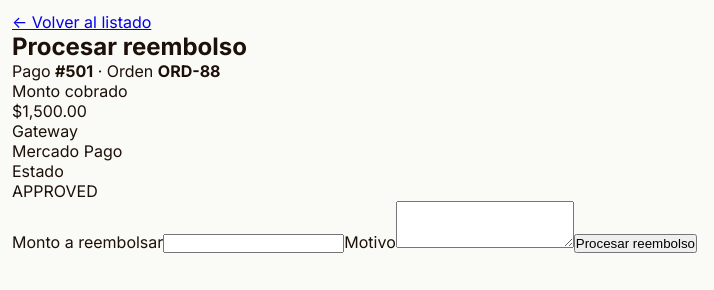
it: AdminPaymentRefundPage (UC-PAY-09) › muestra error si el gateway rechaza el reembolso
The image size is (714, 290).
Expected: the heading "Procesar reembolso" is shown, [12,32,247,61]
In the number field labelled "Monto a reembolsar": (254, 244) [163,234,344,253], type "500"
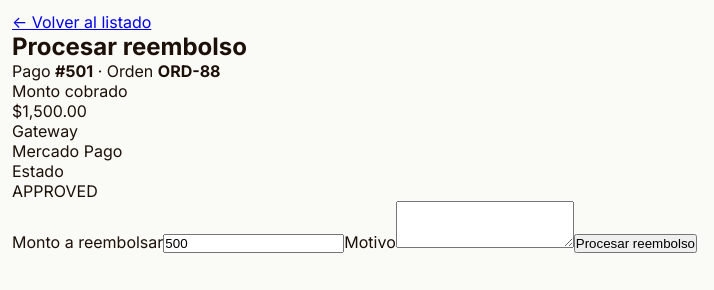
In the text box labelled "Motivo": (485, 224) [396,201,574,248], type "Reembolso parcial test"
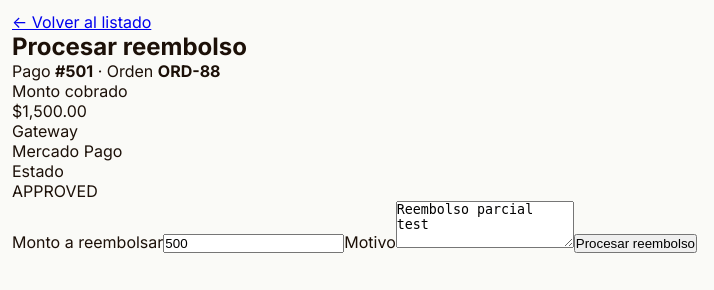
Click the button "Procesar reembolso": (635, 244) [574,234,697,253]
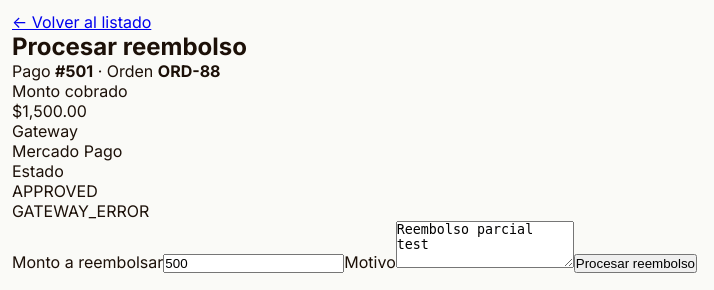
Now the message reads "GATEWAY_ERROR", box [12,201,149,221]
